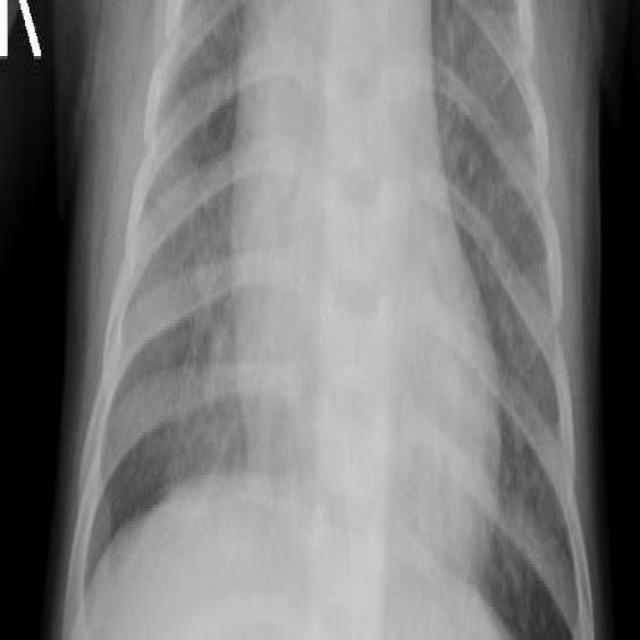low-pneumonia: (159, 148, 241, 478), (504, 362, 568, 625)
